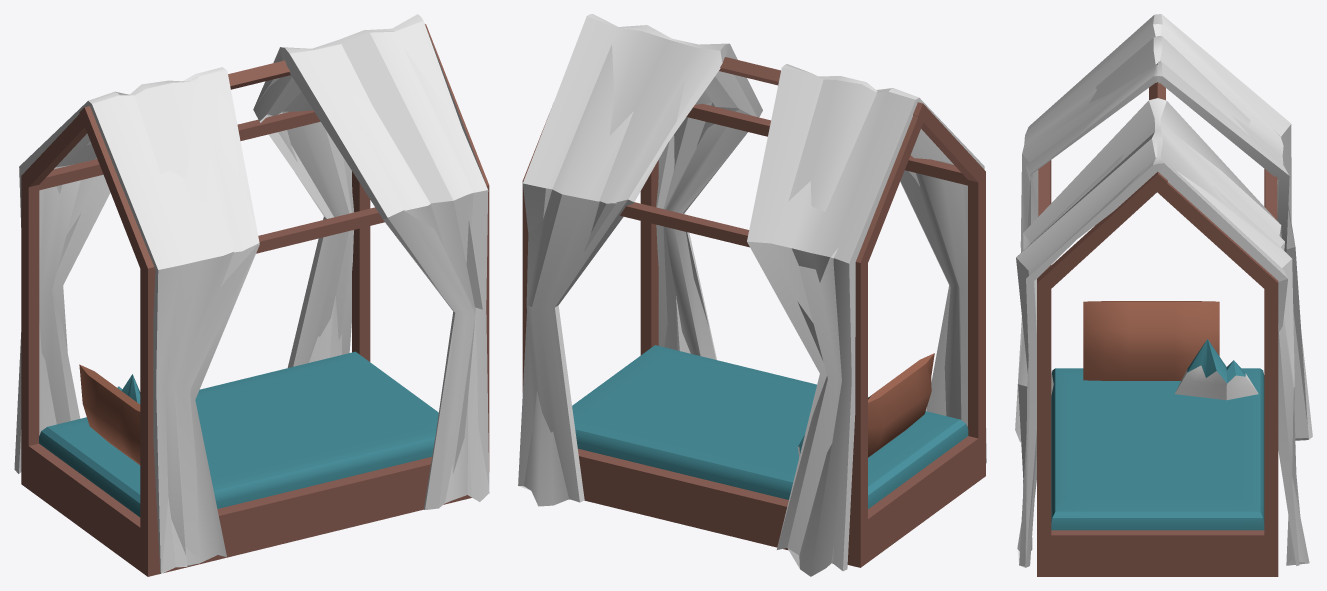
Rendered from Furn1_bed_color3_joined.fbx.
3 views of the same model, side by side, from view 1: azimuth 30°, elevation 25°; view 2: azimuth 150°, elevation 25°; view 3: azimuth 270°, elevation 25° (orthographic). The views are drawn at different scales.
Visible parts, largest first — view 1: Плоскость.002; view 2: Плоскость.002; view 3: Плоскость.002.
Boxes of the visible parts, x1=… form: Плоскость.002: x1=14, y1=14, x2=489, y2=576; Плоскость.002: x1=518, y1=14, x2=986, y2=576; Плоскость.002: x1=1015, y1=14, x2=1312, y2=576.
Bounding box in the file's own units: 358 × 441 × 284.
